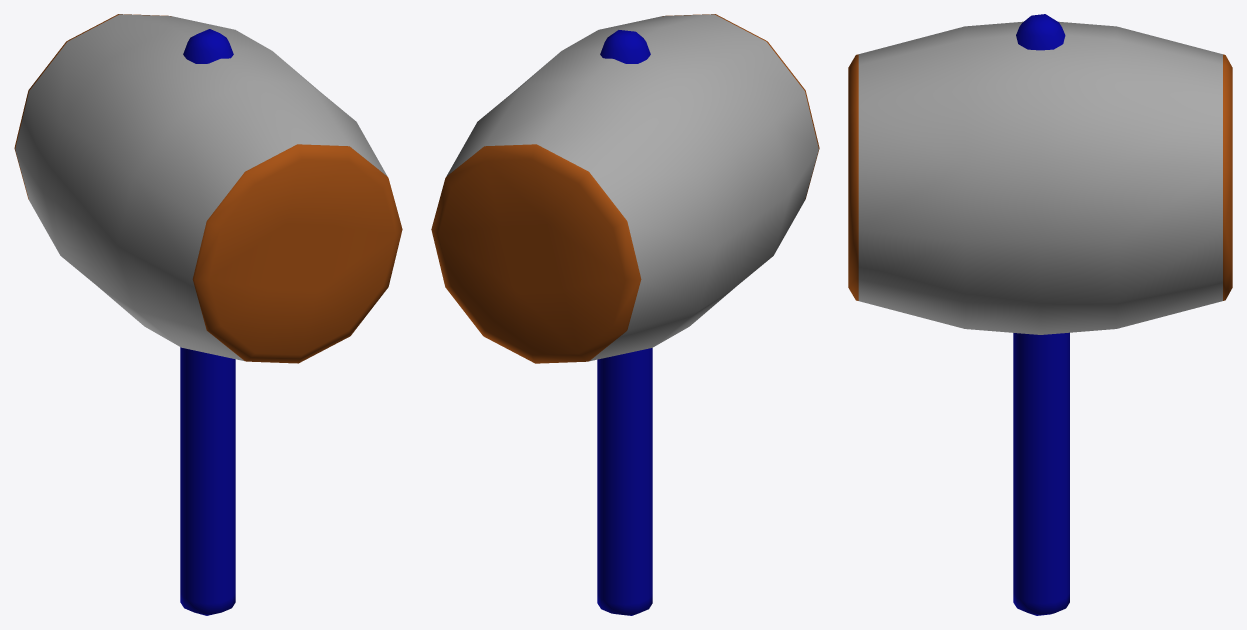
Rendered from Unity 5.obj.
3 renders of one model, left to right at view 1: azimuth 30°, elevation 25°; view 2: azimuth 150°, elevation 25°; view 3: azimuth 270°, elevation 25°, orthographic. The views are drawn at different scales.
Parts seen in each view (by area): view 1: Cylinder.000_Cylinder.004_Cylinder.000_Cylinder.004; view 2: Cylinder.000_Cylinder.004_Cylinder.000_Cylinder.004; view 3: Cylinder.000_Cylinder.004_Cylinder.000_Cylinder.004.
Boxes of the visible parts, <box> form: Cylinder.000_Cylinder.004_Cylinder.000_Cylinder.004: <box>14,14,402,615</box>; Cylinder.000_Cylinder.004_Cylinder.000_Cylinder.004: <box>431,14,819,615</box>; Cylinder.000_Cylinder.004_Cylinder.000_Cylinder.004: <box>848,14,1232,615</box>.
Size of the model in its own units: 1.64 by 3.54 by 2.08.
